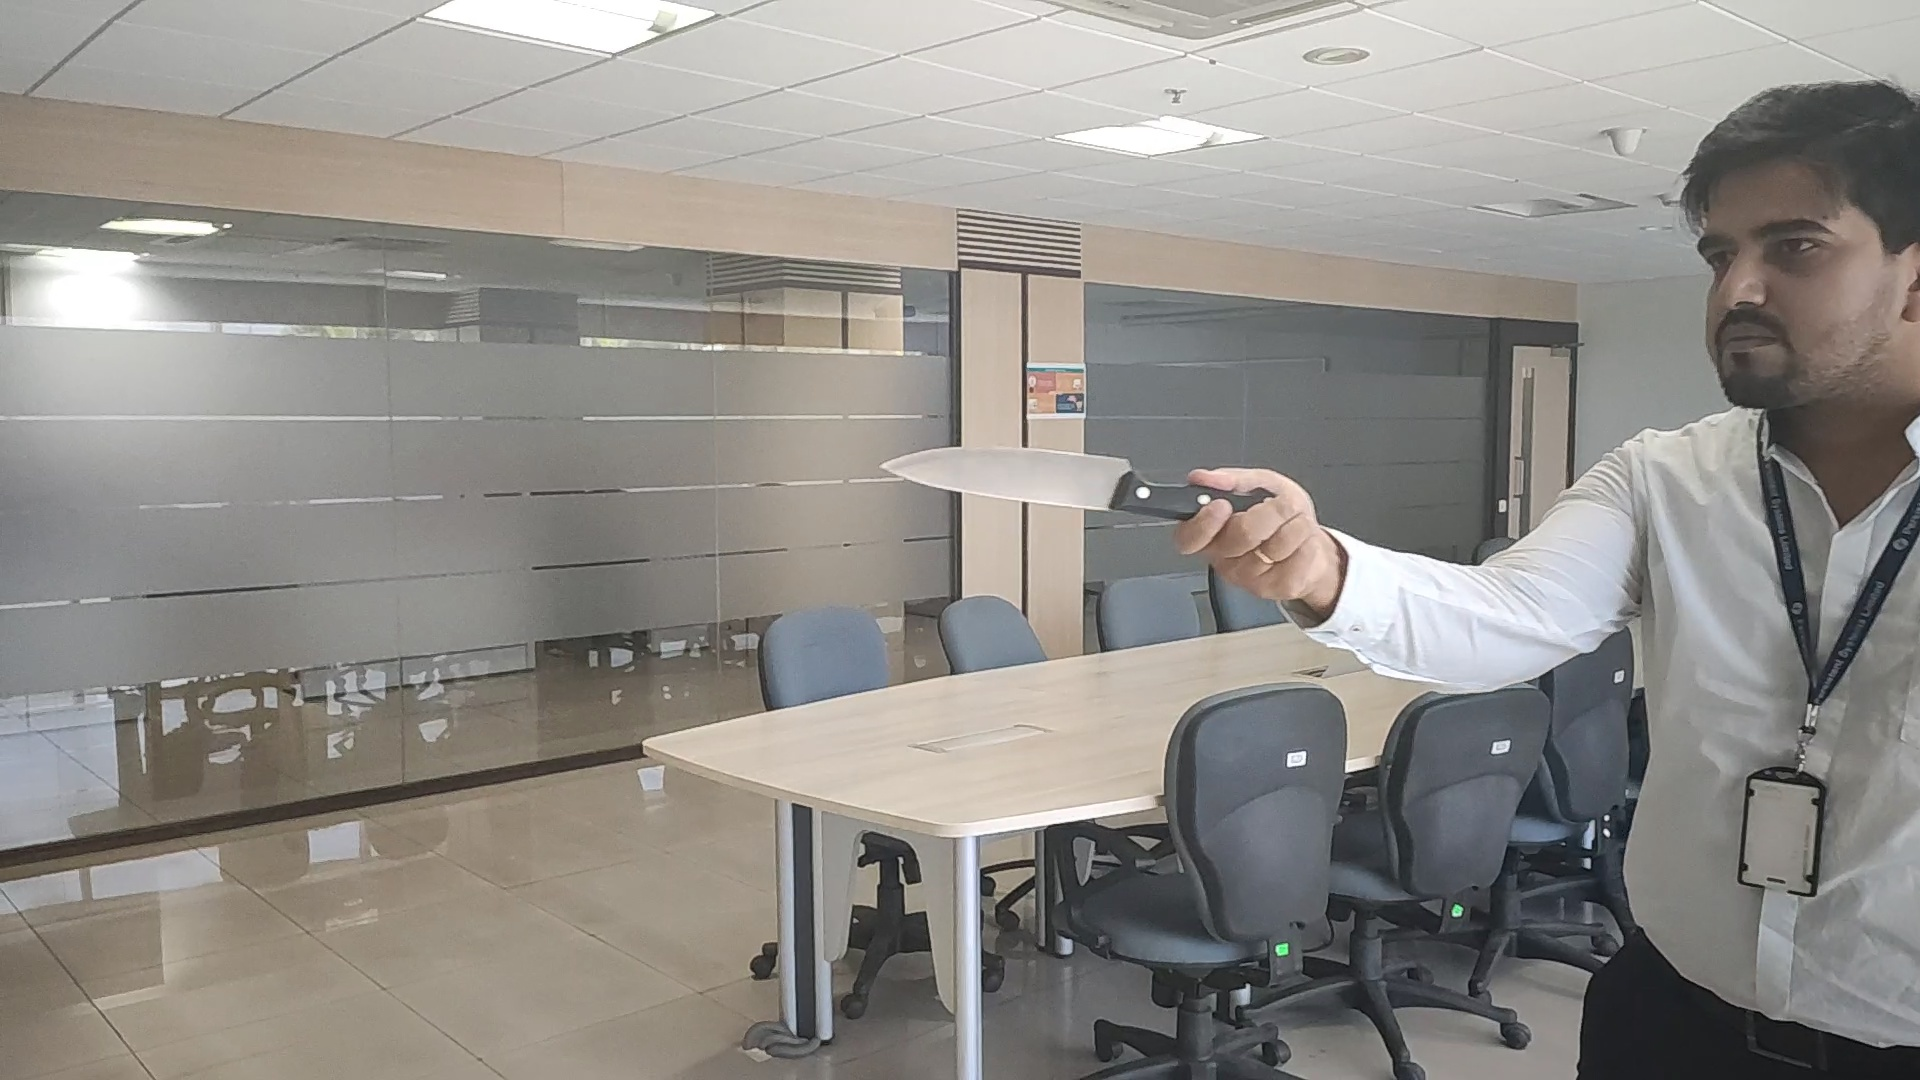knife: (876, 442, 1195, 520)
